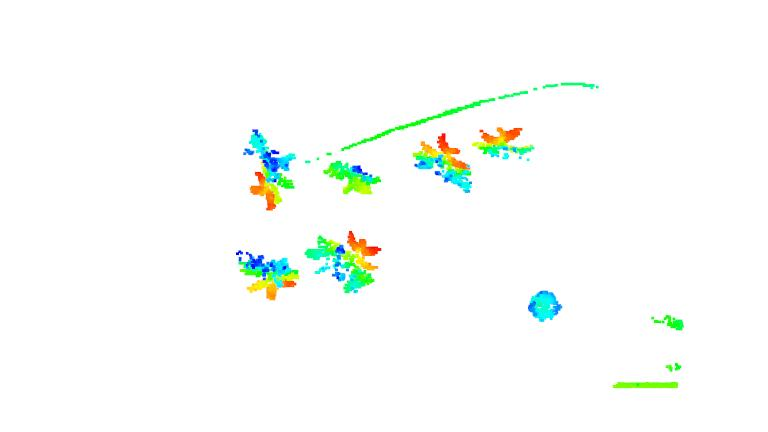chickpea: (304, 231, 381, 294), (243, 128, 294, 211), (414, 131, 476, 194), (234, 249, 301, 299), (320, 159, 381, 196), (473, 126, 536, 160)
